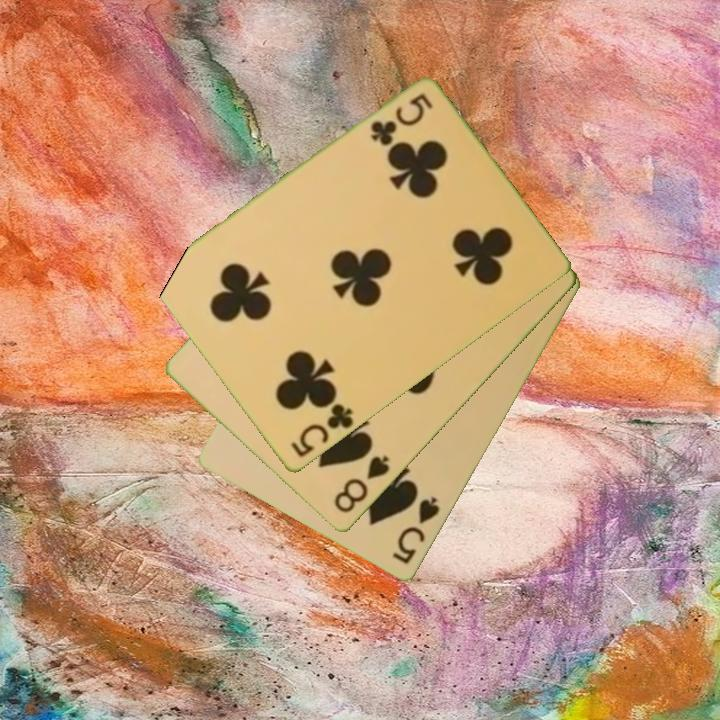5c: (287, 397, 357, 461), (366, 90, 436, 149)
5s: (388, 494, 443, 568)
8s: (330, 453, 393, 517)
